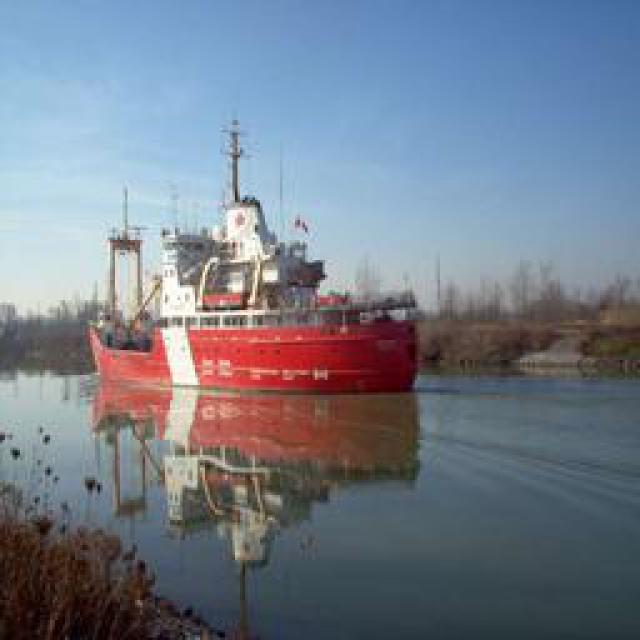Ship: (87, 159, 420, 414)
